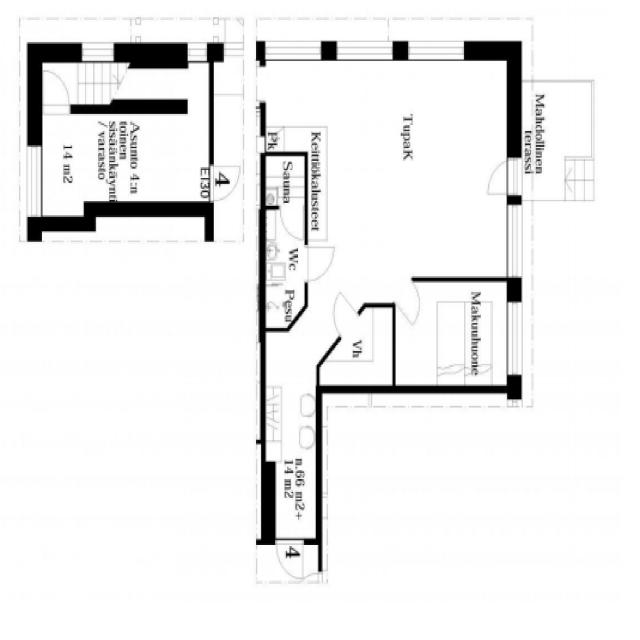door: (261, 213, 322, 313), (480, 153, 523, 200), (39, 64, 76, 117), (300, 238, 339, 286), (329, 286, 364, 332), (201, 162, 240, 201), (396, 277, 424, 330), (274, 536, 304, 580), (278, 201, 307, 243)
window: (401, 31, 472, 67), (500, 197, 528, 284), (20, 139, 48, 225), (502, 292, 528, 384), (330, 29, 400, 63), (259, 32, 328, 63), (75, 37, 121, 64), (253, 58, 270, 112), (182, 38, 212, 66), (258, 132, 268, 154)
zone: (277, 52, 519, 273), (395, 280, 501, 388), (316, 311, 395, 388), (262, 208, 306, 328), (263, 154, 307, 204)
